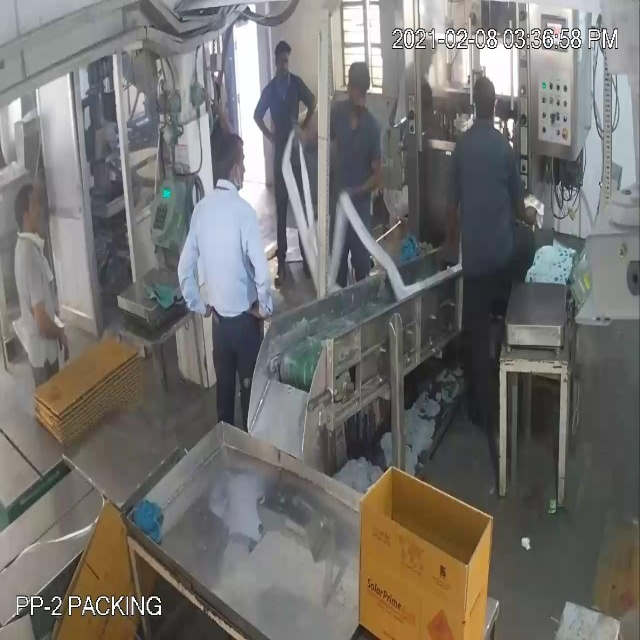Sin_guantes: (241, 220, 280, 337), (32, 285, 77, 376), (175, 222, 214, 324), (349, 156, 394, 198), (442, 177, 462, 270), (250, 98, 274, 149), (297, 90, 317, 137)
